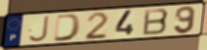2: (85, 11, 109, 41)
4: (114, 8, 138, 39)
9: (173, 5, 197, 35)
B: (142, 8, 171, 37)
D: (52, 13, 83, 43)
J: (27, 15, 51, 44)
